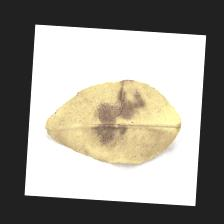canker: (88, 78, 148, 154)
